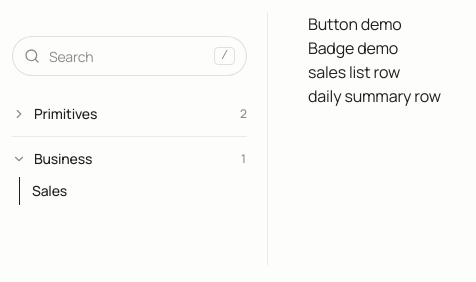
the directory sidebar › narrows to the sections a search matches, on title or description
The image size is (476, 282).
Type "pills" into the search field at [130, 56], box [12,36,247,76]
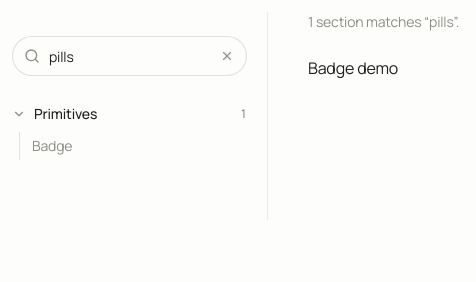
expect the text "Sections" no longer shows "Button": met
expect the text "1 section matches “pills”." is shown: met, box [308,12,459,31]
